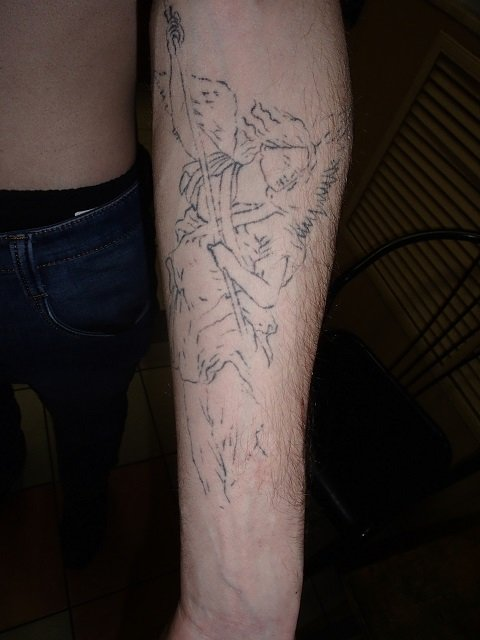tatu2_bogorodica: (156, 40, 331, 477)
